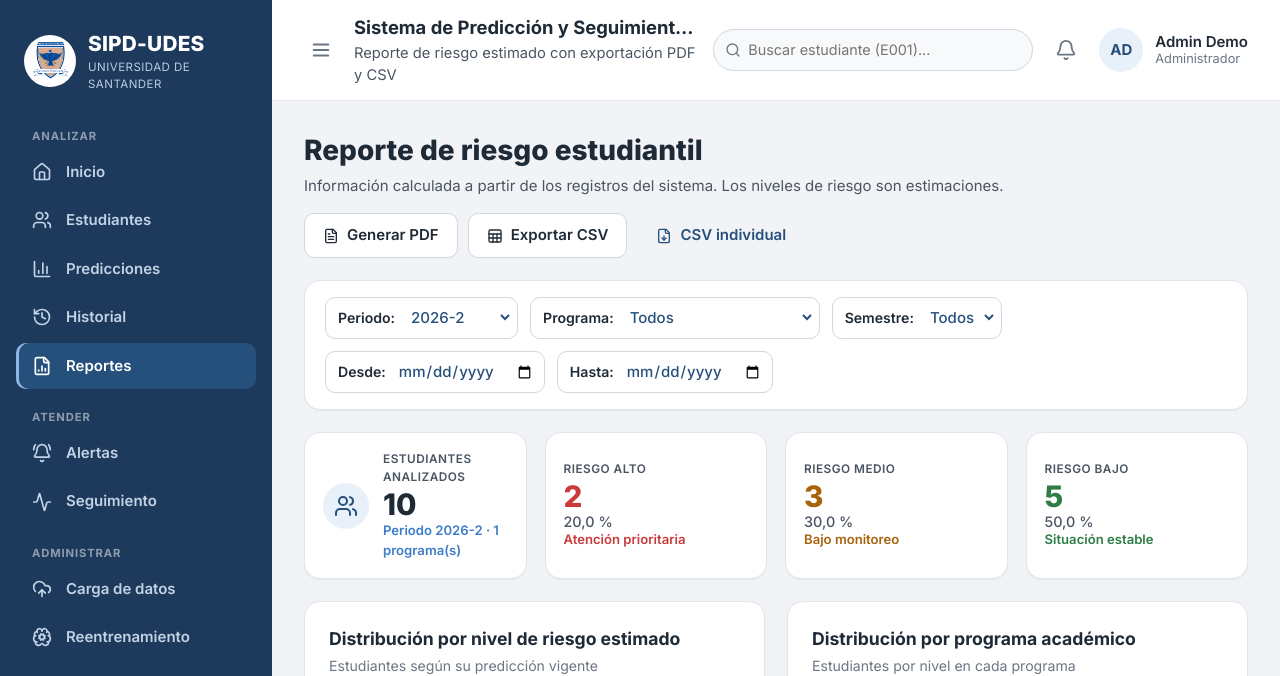
Scenario: Reportes › muestra el mensaje del backend si falla una descarga
Expected: the text "Estudiantes analizados" is shown, [383,452,472,484]
Click the button "Generar PDF" at (381, 236), box [304,213,458,258]
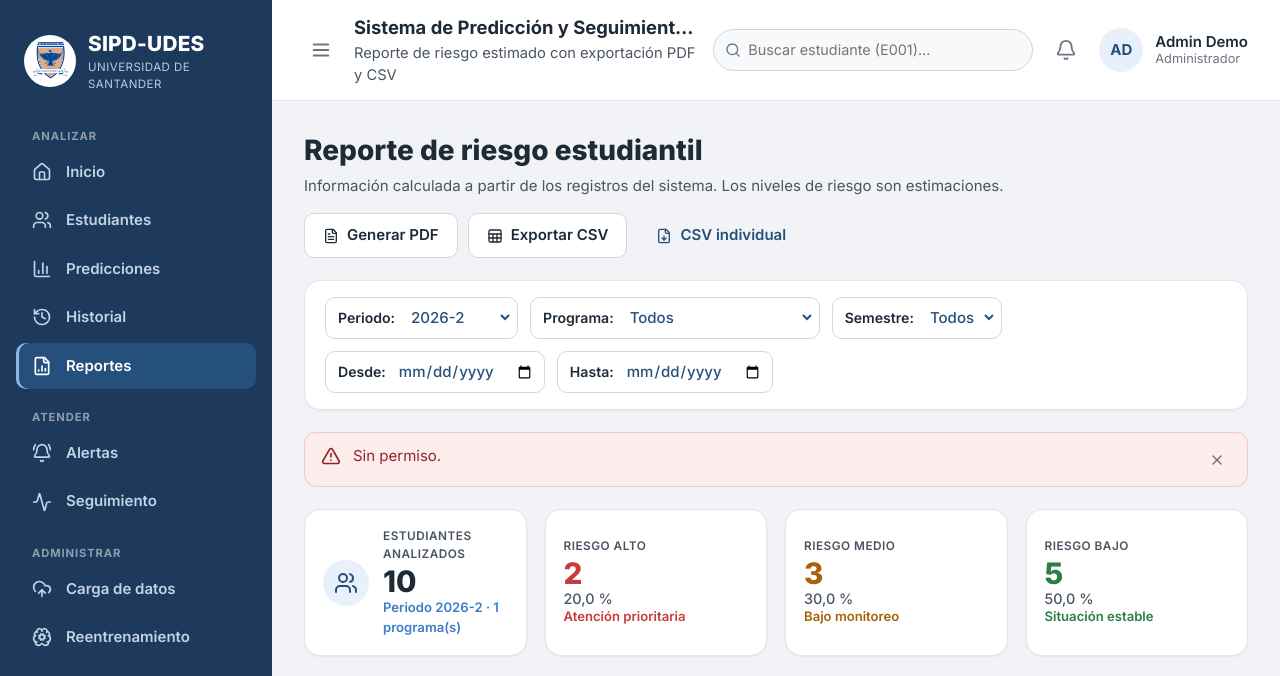
Expected: the text "Sin permiso." is shown, [353,446,441,465]
